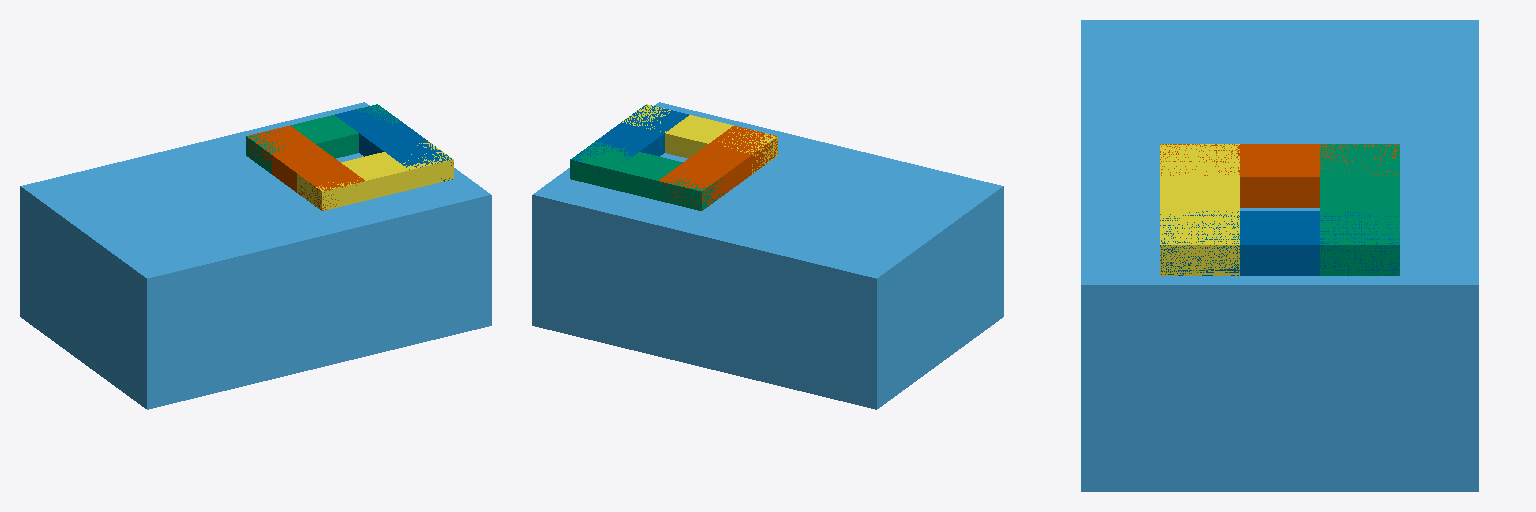
URDF robot description (ground_skeleton):
<?xml version="1.0"?>
<robot name="ground_skeleton">
    <link name="world" />
    <link name="ground_link">
        <inertial>
            <mass value="1.0" />
            <origin xyz="-0.3 0 -0.2" rpy="0 0 0" />
            <inertia ixx="1.0" ixy="0" ixz="0" iyy="1.0" iyz="0" izz="1.0" />
        </inertial>
        <visual>
            <origin xyz="-0.3 0 -0.2" rpy="0 -0 0" />
            <geometry>
                <mesh filename="./plane.obj"/>
            </geometry>
        </visual>
        <collision group="default">
            <origin xyz="-0.3 0 -0.2" rpy="0 -0 0" />
            <geometry>
                <mesh filename="./plane.obj"/>
            </geometry>
        </collision>
    </link>
    <joint name="ground_joint" type="fixed">
        <origin xyz="0 0 0" rpy="0 0 0" />
        <parent link="world" />
        <child link="ground_link" />
    </joint>
    <link name="ground_link2">
        <inertial>
            <mass value="1.0" />
            <origin xyz="0 0.14 0.03" rpy="0 0 0" />
            <inertia ixx="1.0" ixy="0" ixz="0" iyy="1.0" iyz="0" izz="1.0" />
        </inertial>
        <visual>
            <origin xyz="0 0.14 0.03" rpy="0 -0 0" />
            <geometry>
                <mesh filename="./plane2.obj"/>
            </geometry>
        </visual>
        <collision group="default">
            <origin xyz="0 0.14 0.03" rpy="0 -0 0" />
            <geometry>
                <mesh filename="./plane2.obj"/>
            </geometry>
        </collision>
    </link>
    <joint name="ground_joint2" type="fixed">
        <origin xyz="0 0 0" rpy="0 0 0" />
        <parent link="world" />
        <child link="ground_link2" />
    </joint>
    <link name="ground_link3">
        <inertial>
            <mass value="1.0" />
            <origin xyz="0 -0.14 0.03" rpy="0 0 0" />
            <inertia ixx="1.0" ixy="0" ixz="0" iyy="1.0" iyz="0" izz="1.0" />
        </inertial>
        <visual>
            <origin xyz="0 -0.14 0.03" rpy="0 -0 0" />
            <geometry>
                <mesh filename="./plane2.obj"/>
            </geometry>
        </visual>
        <collision group="default">
            <origin xyz="0 -0.14 0.03" rpy="0 -0 0" />
            <geometry>
                <mesh filename="./plane2.obj"/>
            </geometry>
        </collision>
    </link>
    <joint name="ground_joint3" type="fixed">
        <origin xyz="0 0 0" rpy="0 0 0" />
        <parent link="world" />
        <child link="ground_link3" />
    </joint>
    <link name="ground_link4">
        <inertial>
            <mass value="1.0" />
            <origin xyz="0.14 0 0.03" rpy="0 0 0" />
            <inertia ixx="1.0" ixy="0" ixz="0" iyy="1.0" iyz="0" izz="1.0" />
        </inertial>
        <visual>
            <origin xyz="0.14 0 0.03" rpy="0 -0 0" />
            <geometry>
                <mesh filename="./plane3.obj"/>
            </geometry>
        </visual>
        <collision group="default">
            <origin xyz="0.14 0 0.03" rpy="0 -0 0" />
            <geometry>
                <mesh filename="./plane3.obj"/>
            </geometry>
        </collision>
    </link>
    <joint name="ground_joint4" type="fixed">
        <origin xyz="0 0 0" rpy="0 0 0" />
        <parent link="world" />
        <child link="ground_link4" />
    </joint>
    <link name="ground_link5">
        <inertial>
            <mass value="1.0" />
            <origin xyz="-0.14 0 0.03" rpy="0 0 0" />
            <inertia ixx="1.0" ixy="0" ixz="0" iyy="1.0" iyz="0" izz="1.0" />
        </inertial>
        <visual>
            <origin xyz="-0.14 0 0.03" rpy="0 -0 0" />
            <geometry>
                <mesh filename="./plane3.obj"/>
            </geometry>
        </visual>
        <collision group="default">
            <origin xyz="-0.14 0 0.03" rpy="0 -0 0" />
            <geometry>
                <mesh filename="./plane3.obj"/>
            </geometry>
        </collision>
    </link>
    <joint name="ground_joint5" type="fixed">
        <origin xyz="0 0 0" rpy="0 0 0" />
        <parent link="world" />
        <child link="ground_link5" />
    </joint>
</robot>

--- Facts derived from the render (not from the file) ---
Views: 3 orthographic renders of the robot side by side, from view 1: azimuth 30°, elevation 25°; view 2: azimuth 150°, elevation 25°; view 3: azimuth 270°, elevation 25°.
Robot: ground_skeleton — 6 links, 5 joints (5 fixed); root link world; default pose: every joint at zero.
Links seen in each view (by area): view 1: ground_link, ground_link3, ground_link5, ground_link4, ground_link2; view 2: ground_link, ground_link2, ground_link5, ground_link4, ground_link3; view 3: ground_link, ground_link2, ground_link3, ground_link4, ground_link5.
Boxes of the visible links, x1,y1,x2,y2 form: ground_link: [20, 102, 491, 409]; ground_link3: [297, 141, 453, 210]; ground_link5: [248, 126, 364, 210]; ground_link4: [335, 105, 453, 181]; ground_link2: [246, 104, 400, 173]; ground_link: [532, 102, 1003, 409]; ground_link2: [570, 142, 724, 210]; ground_link5: [659, 126, 777, 210]; ground_link4: [570, 105, 688, 175]; ground_link3: [622, 104, 777, 173]; ground_link: [1081, 20, 1478, 491]; ground_link2: [1320, 144, 1399, 275]; ground_link3: [1160, 144, 1239, 275]; ground_link4: [1160, 211, 1399, 275]; ground_link5: [1160, 144, 1399, 207].
Bounding box of the posed robot: 1.1 × 0.7 × 0.46 m (x, y, z).
5 mesh visuals loaded from 3 distinct referenced files (3 OBJ).
